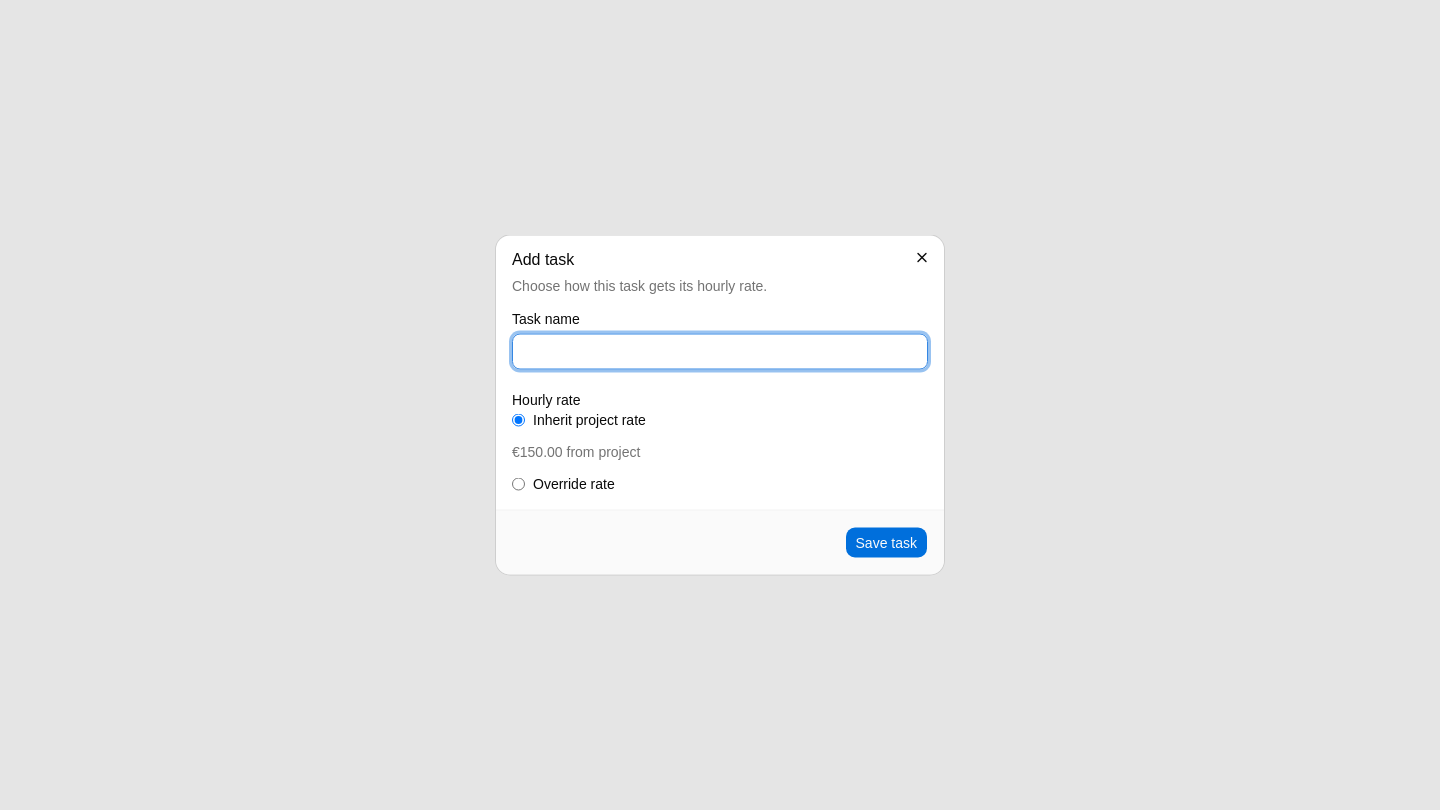
preserves the dialog and entered context after invalid override validation
The image size is (1440, 810).
Type "Research" into the field labelled "Task name" at (720,352), box [512,334,928,370]
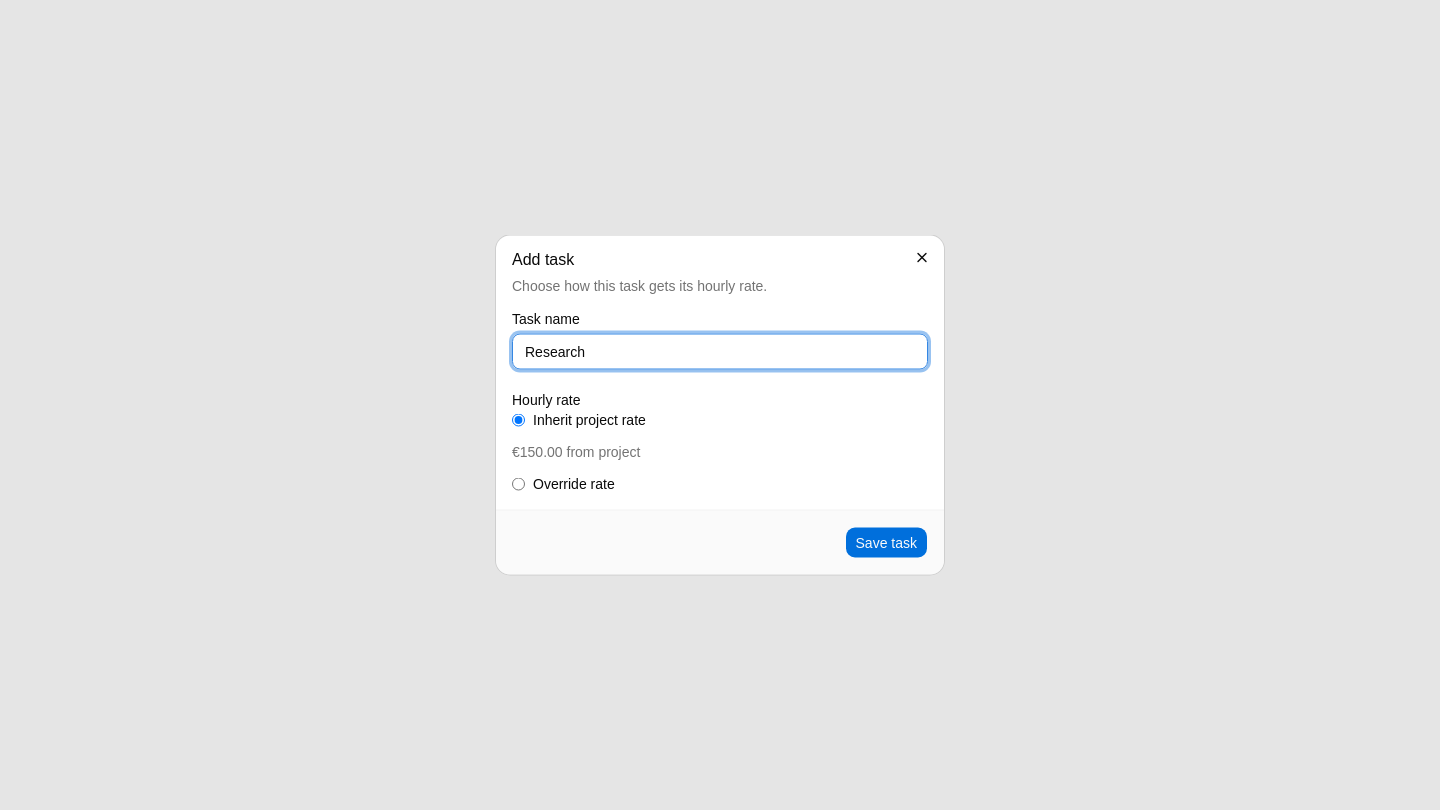
Click the radio button labelled "Override rate" at (518,484), box [512,477,525,490]
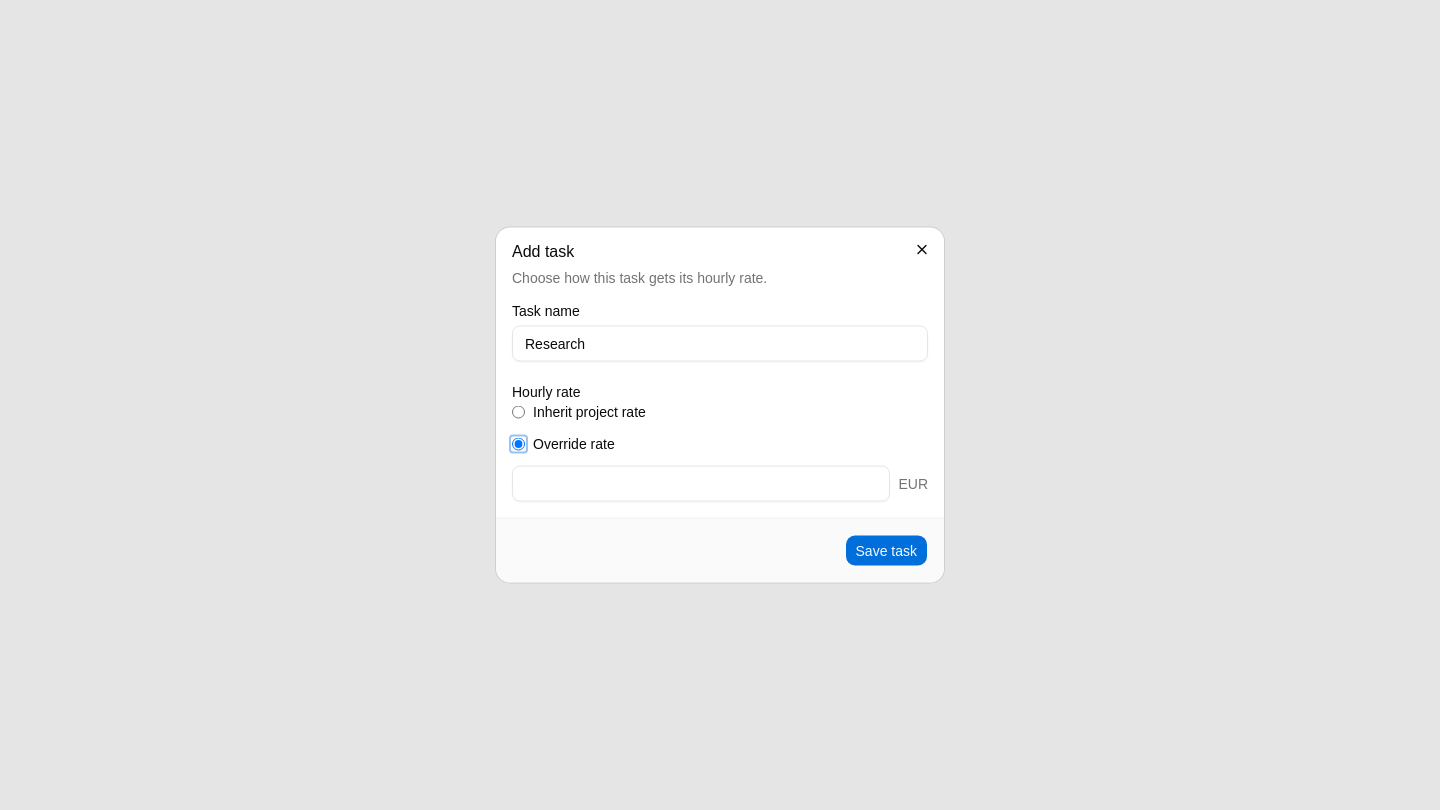
Type "12.345" into the field named "Hourly rate" at (701,484), box [512,466,890,502]
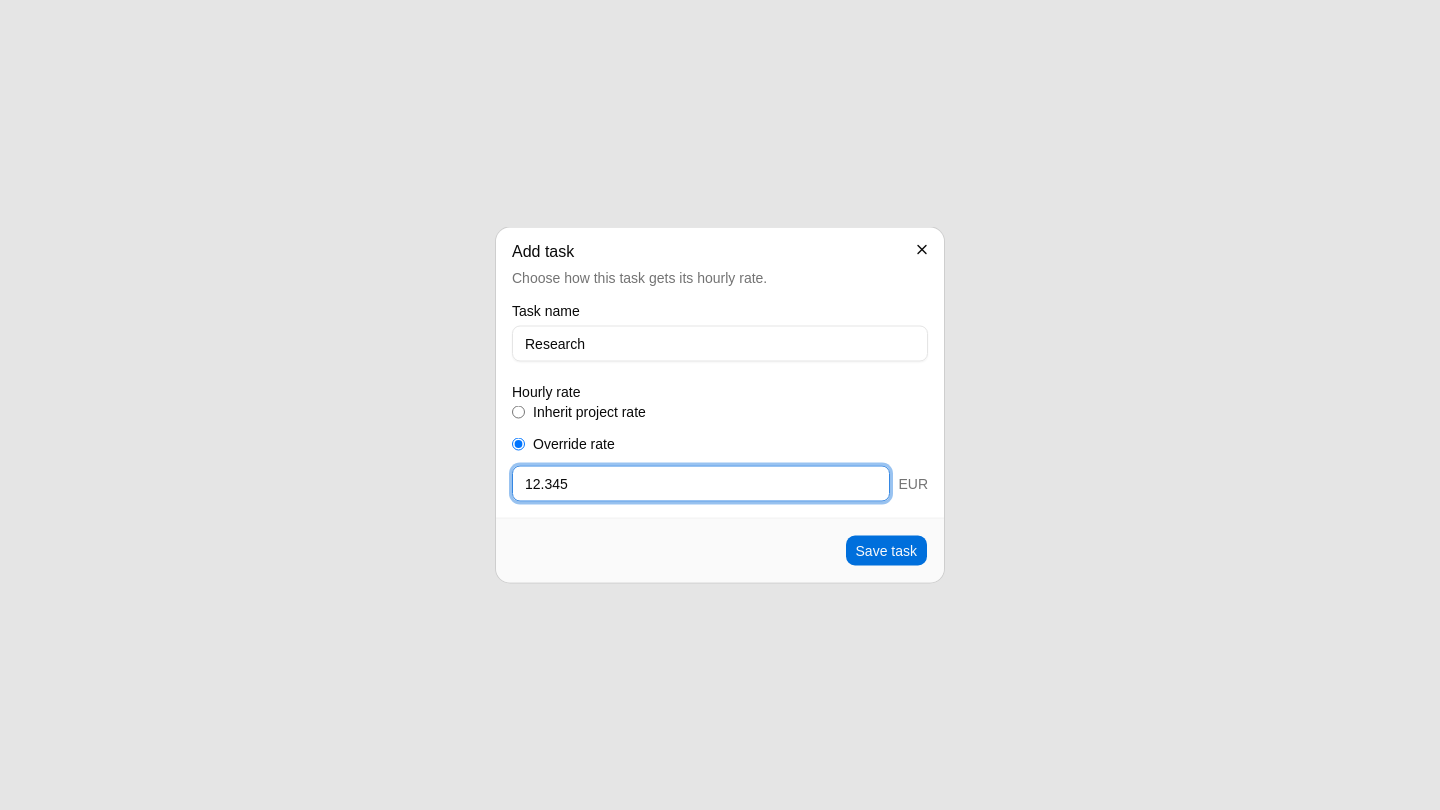
Click the button "Save task" at (886,550), box [844,534,928,566]
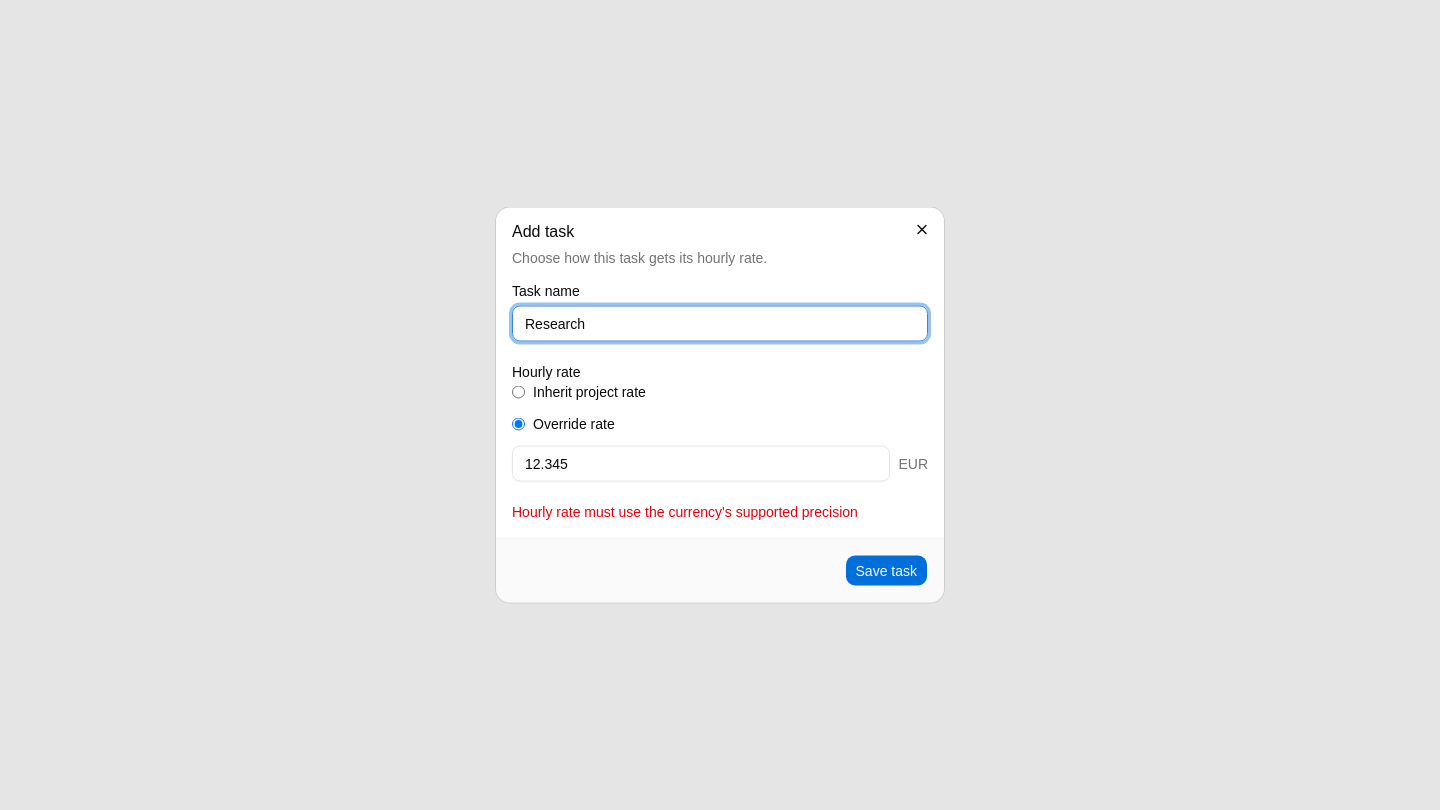
Expected: the dialog "Add task" is shown, [496,208,944,602]
Expected: the message shows "supported precision", [512,504,858,520]
